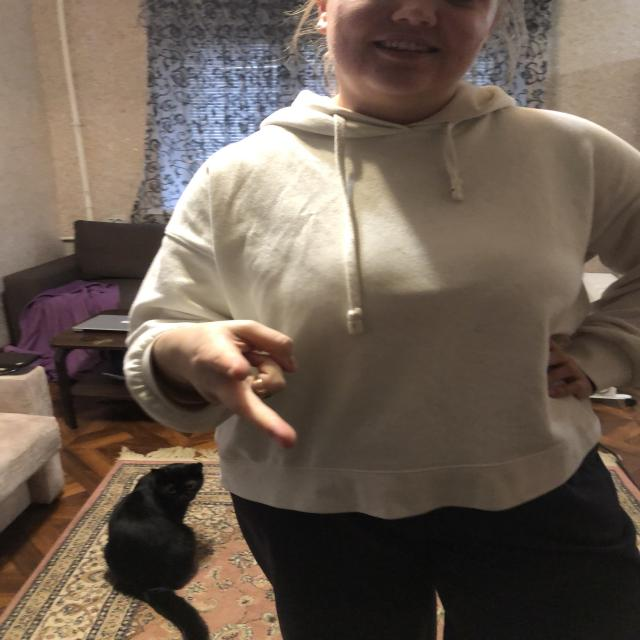scissors: (176, 318, 302, 444)
